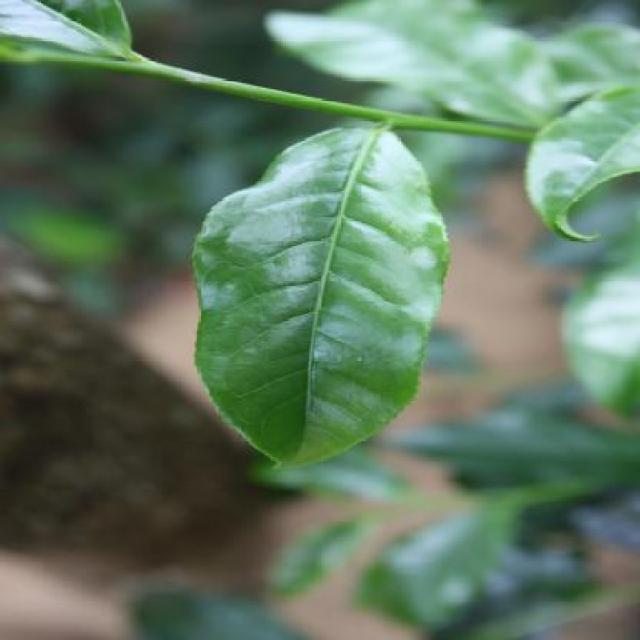Tea leaf: (188, 125, 454, 477)
